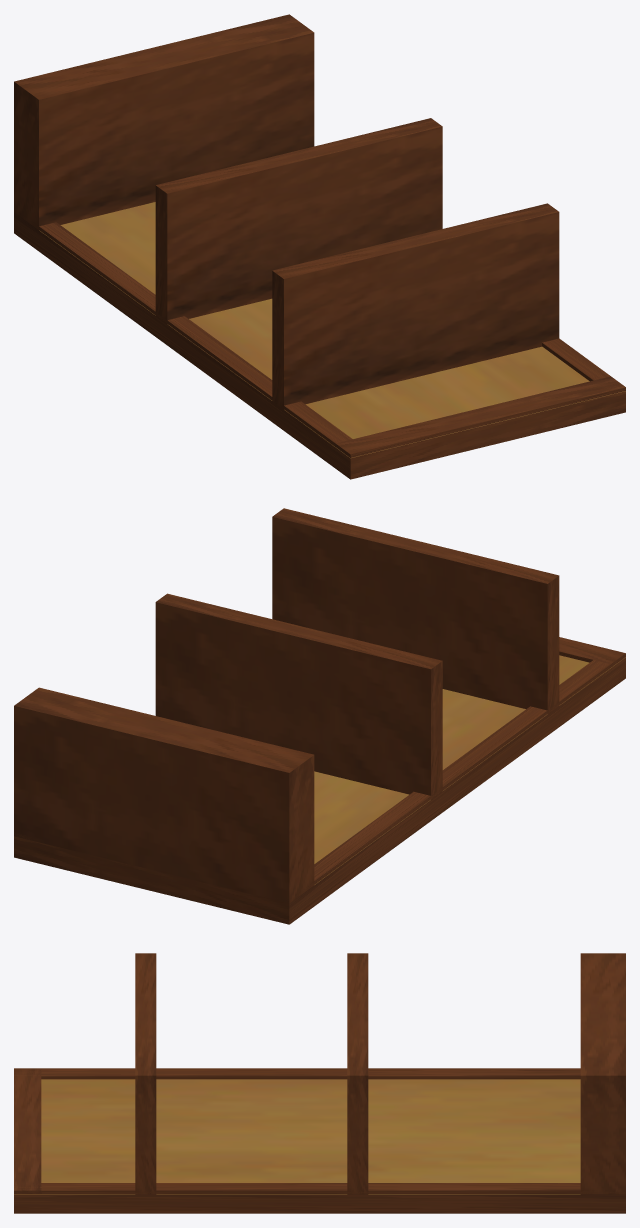
File: pz_g016_storage_big_wall.obj
The picture shows the model from 3 angles, top to bottom: view 1: azimuth 30°, elevation 25°; view 2: azimuth 150°, elevation 25°; view 3: azimuth 270°, elevation 25°; orthographic projection. The views are drawn at different scales.
Parts seen in each view (by area): view 1: pz_g016_storage_big_wall; view 2: pz_g016_storage_big_wall; view 3: pz_g016_storage_big_wall.
Boxes of the visible parts, x1,y1,x2,y2 form: pz_g016_storage_big_wall: [14, 14, 625, 479]; pz_g016_storage_big_wall: [14, 508, 625, 924]; pz_g016_storage_big_wall: [14, 953, 625, 1213].
Bounding box in the file's own units: 0.9316 × 0.4903 × 1.97.
Materials: 1 (1 with a texture image).
